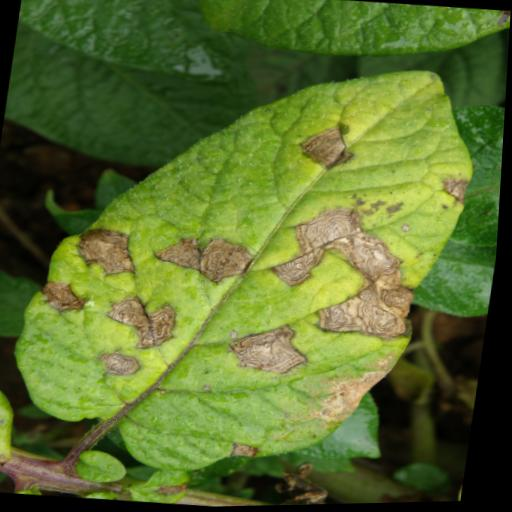Early Blight: (1, 35, 497, 501)
